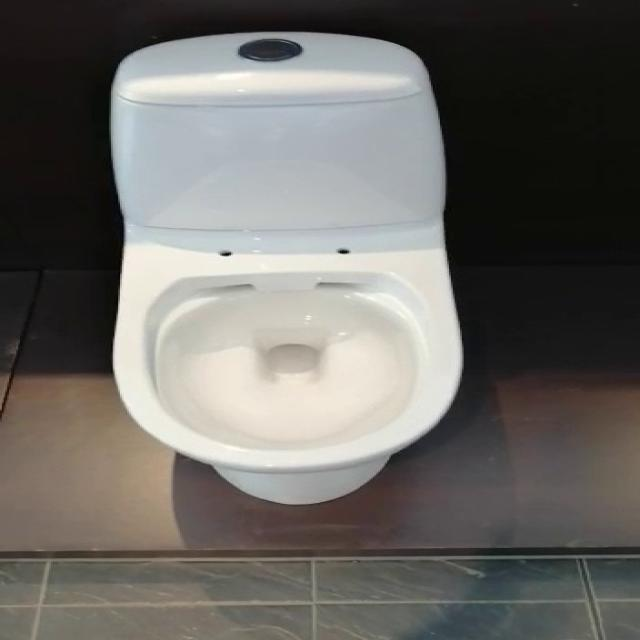toilet: (107, 30, 464, 505)
